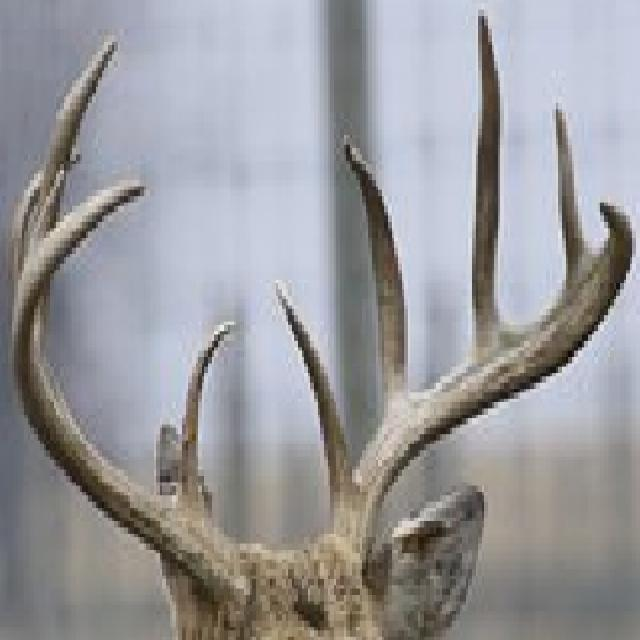L-F: (315, 199, 633, 579)
L-G1: (275, 281, 353, 513)
L-G2: (343, 142, 409, 429)
L-G3: (471, 11, 503, 364)
L-G4: (555, 104, 593, 289)
R-F: (12, 179, 250, 630)
R-G1: (174, 320, 235, 518)
